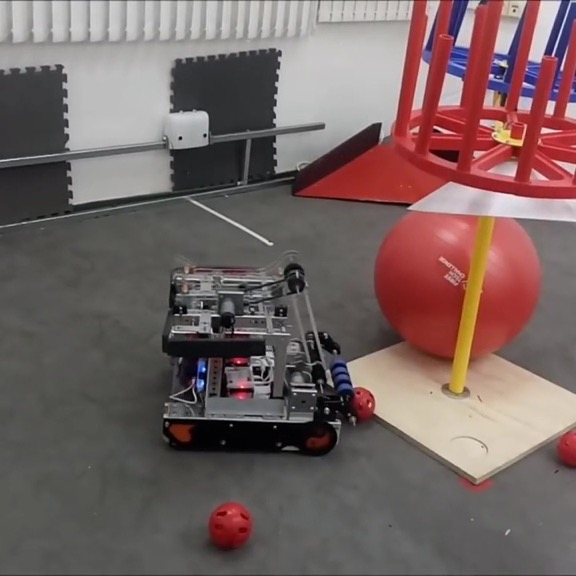ball: (208, 500, 254, 549), (348, 385, 377, 421), (558, 425, 576, 471)
robot: (164, 251, 352, 456)
yogaball: (372, 204, 546, 362)
